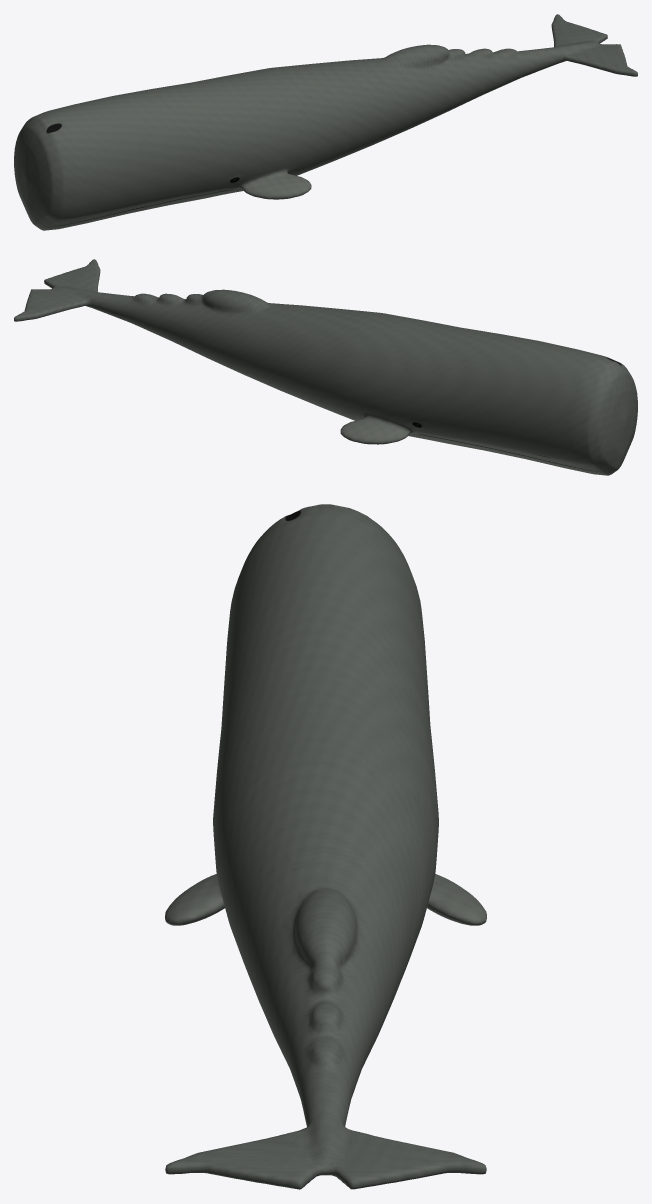
The picture shows the model from 3 angles, top to bottom: view 1: azimuth 30°, elevation 25°; view 2: azimuth 150°, elevation 25°; view 3: azimuth 270°, elevation 25°; orthographic projection. The views are drawn at different scales.
Visible parts, largest first — view 1: NEW413_whole_sperm_whale; view 2: NEW413_whole_sperm_whale; view 3: NEW413_whole_sperm_whale.
Boxes of the visible parts, x1,y1,x2,y2 form: NEW413_whole_sperm_whale: (14,14,637,230); NEW413_whole_sperm_whale: (14,259,637,475); NEW413_whole_sperm_whale: (165,504,486,1189).
Bounding box in the file's own units: 14.89 × 2.88 × 3.53.
1 material, 1 textured.
